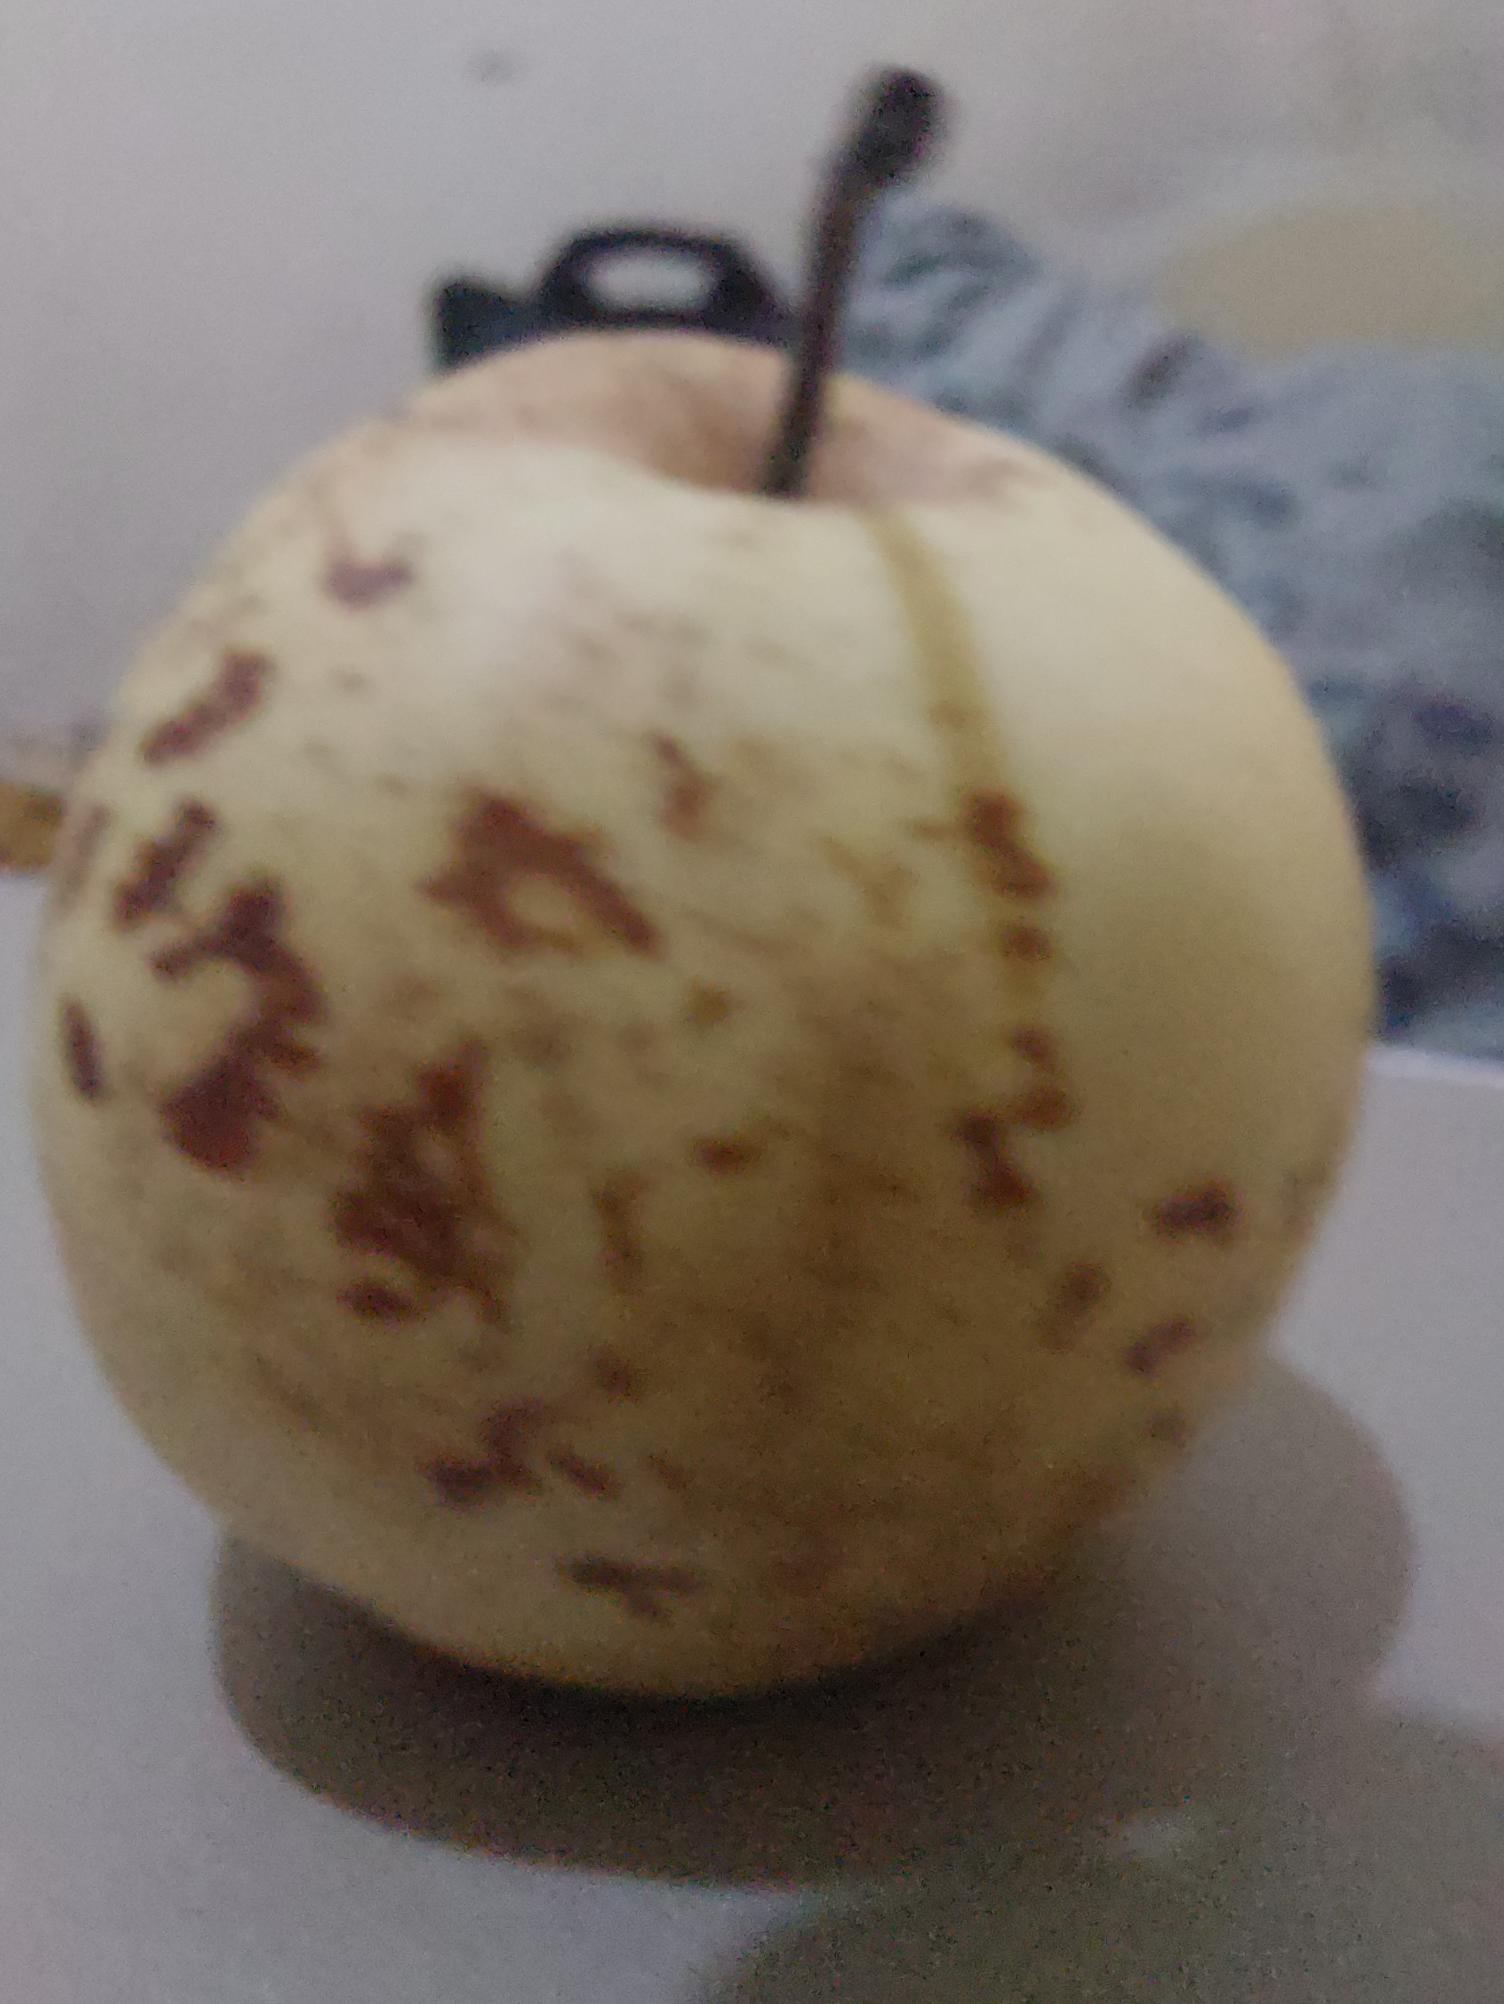Bad Pear: (0, 317, 1386, 1729)
